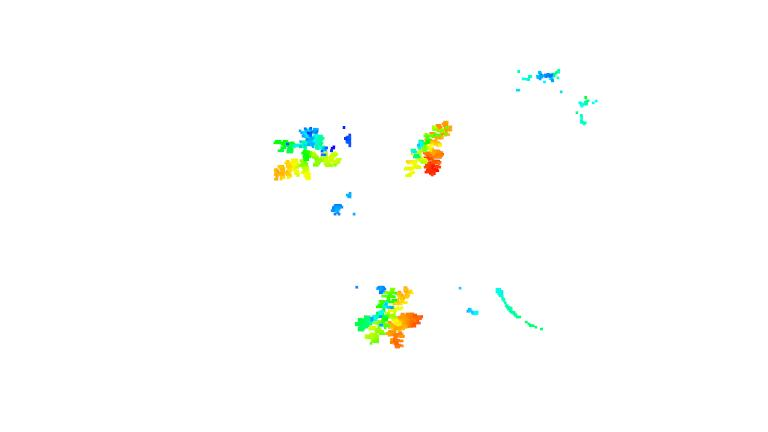chickpea: (352, 283, 424, 351), (269, 125, 344, 184), (399, 120, 456, 180)
